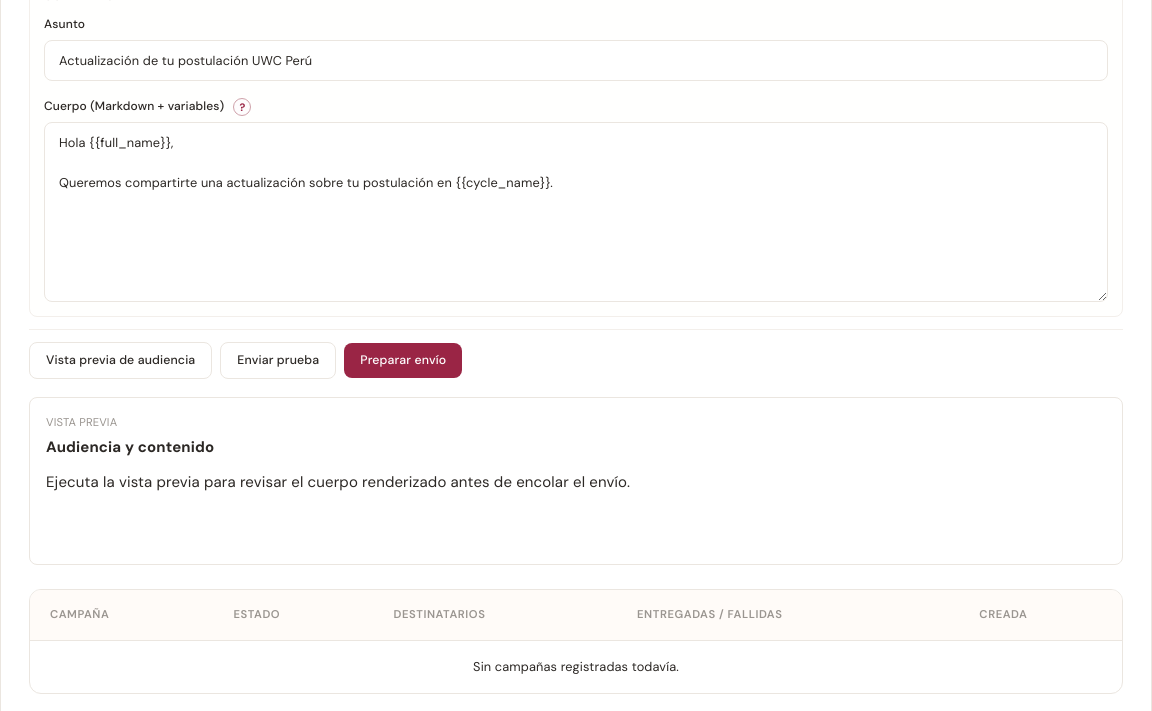
AdminCommunicationsCenter › shows a no-audience status message and skips confirmation for zero recipients
This screenshot has width=1152, height=711.
(page scrolled)
Click the button "Preparar envío".
click(403, 361)  # box [344, 343, 462, 378]
(page scrolled)
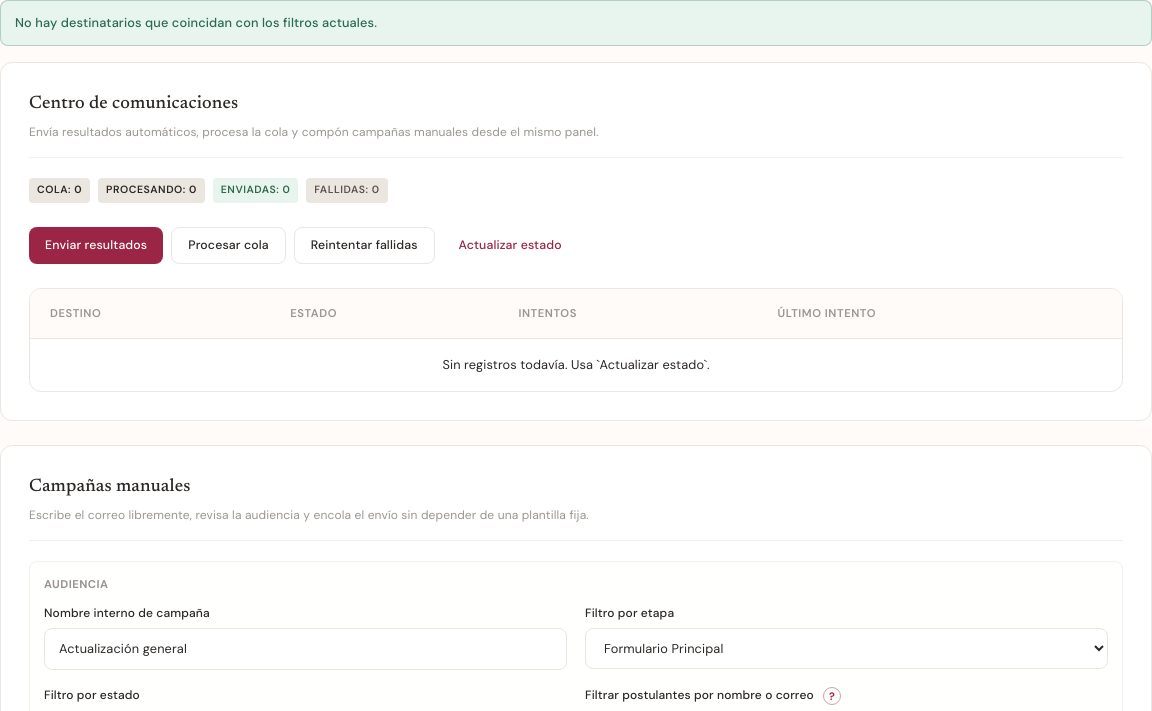
expect the text "No hay destinatarios que coincidan con los filtros actuales." is shown: met, box [0, 0, 1151, 46]
